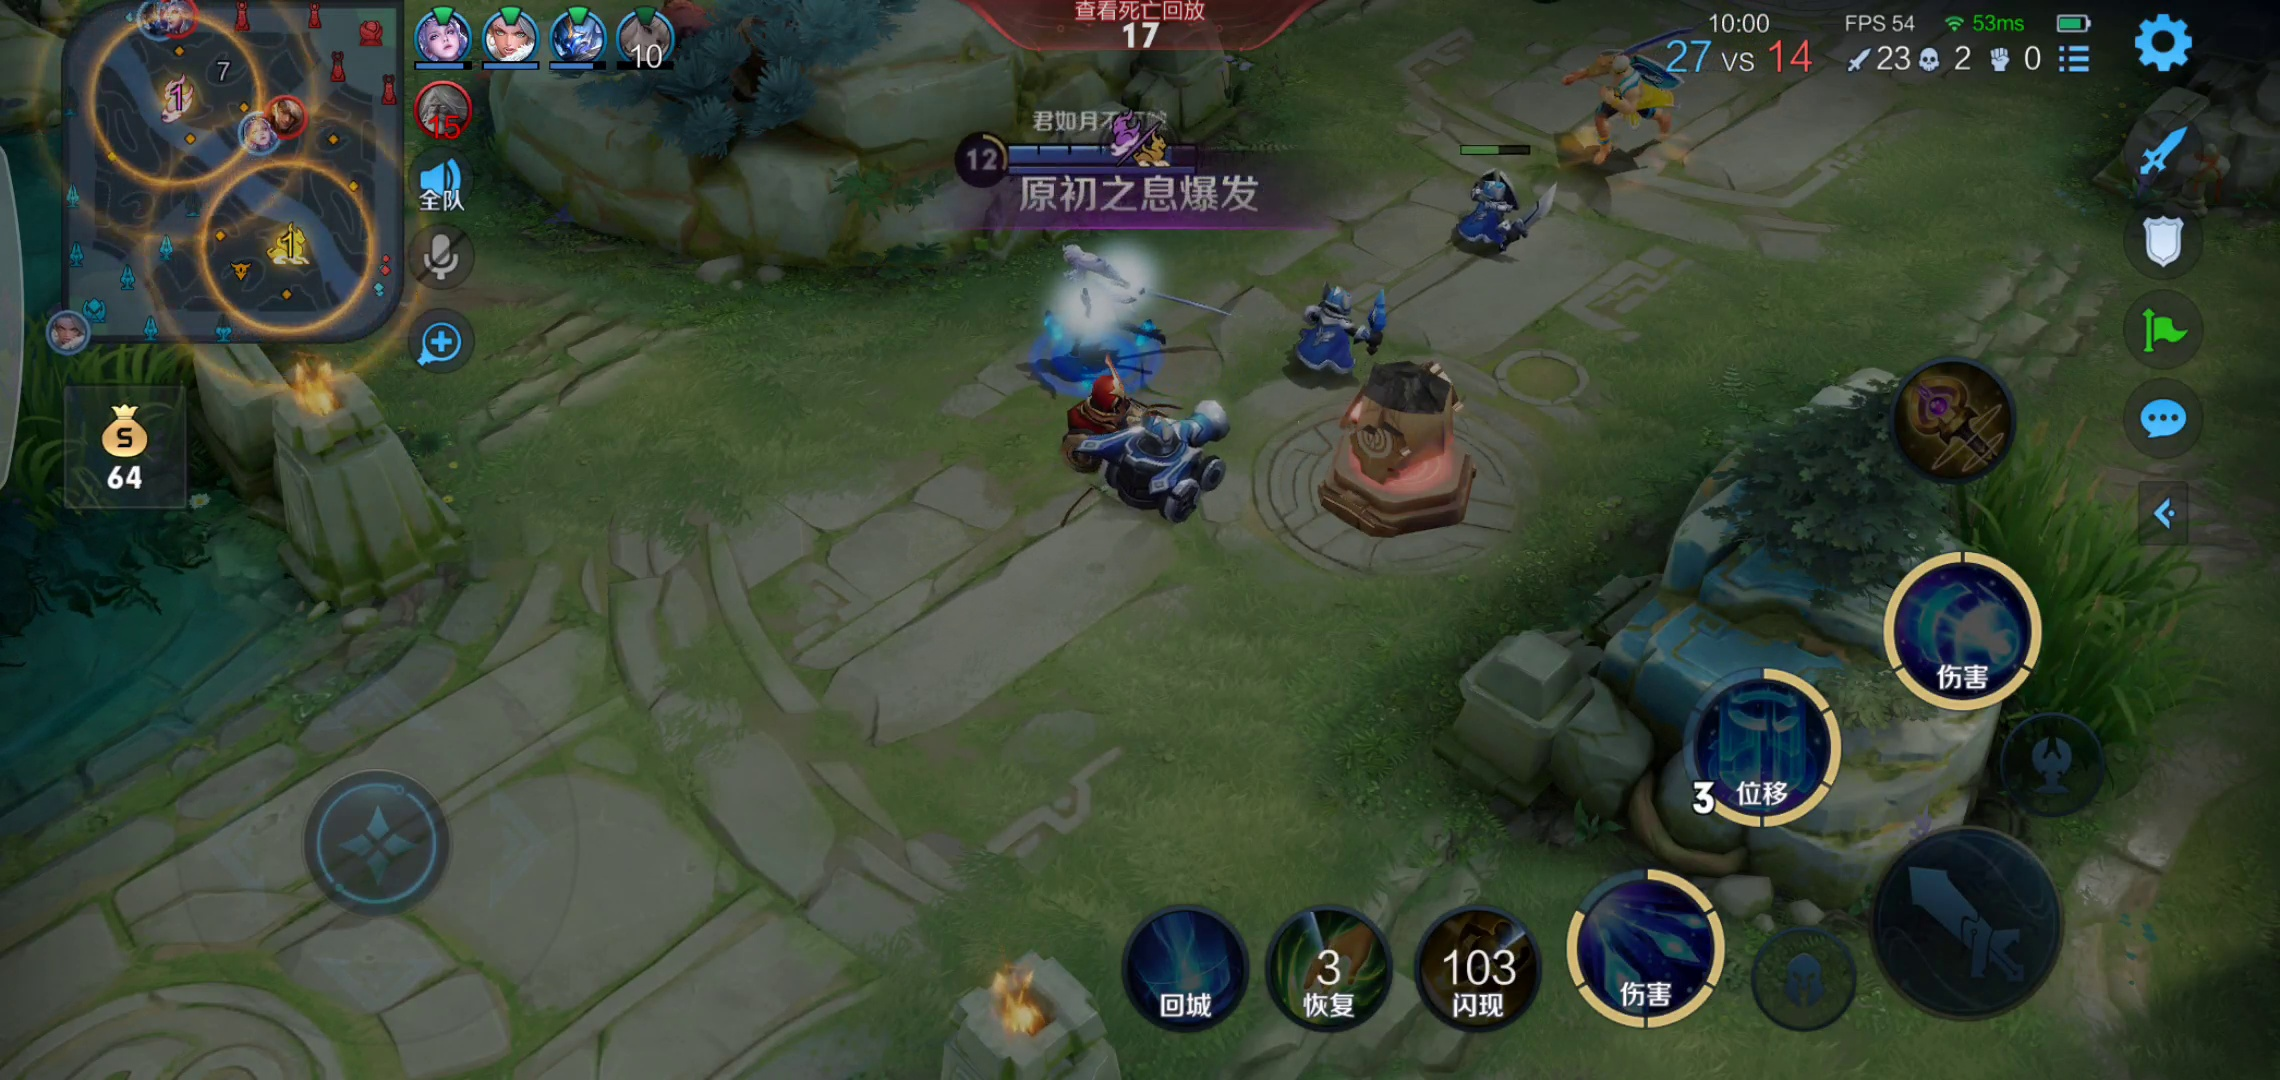grass: (1967, 470, 2203, 772), (1, 326, 221, 528)
hero: (1032, 241, 1182, 398), (1573, 36, 1694, 183)
soldier: (1077, 395, 1229, 509), (1447, 161, 1557, 265), (1280, 278, 1386, 374)
tower: (1325, 363, 1493, 548)
